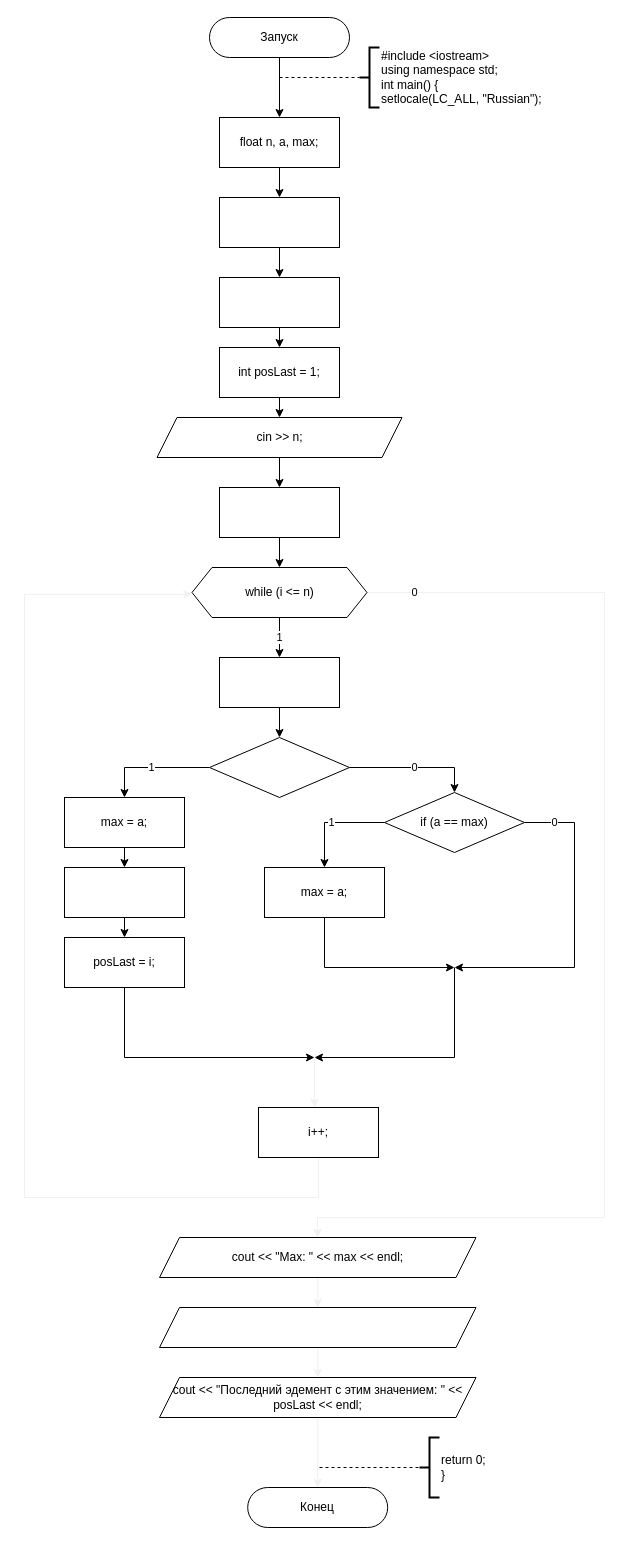
Image size: 630x1545. Some labels were removed from this diagram. Here are the shapes that lost their labels. From the top down, the centre of each, then its label:
point 279,222: int i = 2;
point 279,302: int posFirst = 1;
point 279,512: max = sin(n + 1 / n);
point 279,682: a = sin(n + i / n);
point 279,767: if (a > max)
point 124,892: posFirst = i;
point 317,1327: cout << "Первый элемент с этим значением: " << posFirst << endl;
